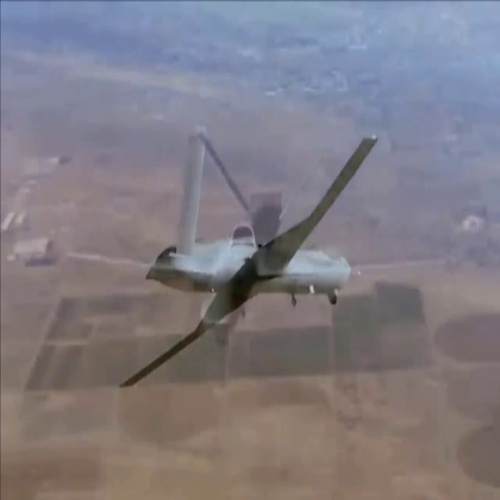uav943: (70, 128, 386, 391)
